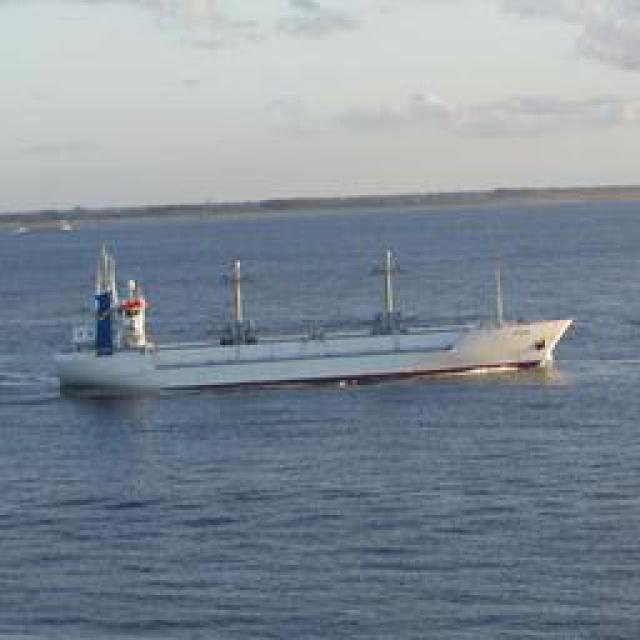Ship: (51, 252, 581, 400)
